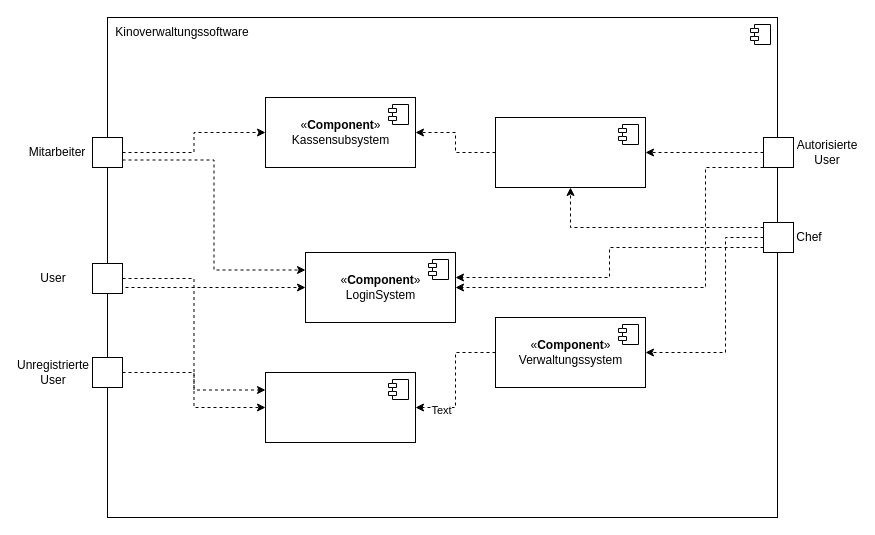
Some shapes in this 875 by 535 pixel diagram are drawn without their labels. Here are the shapes that lost their labels. From the top down, the centre of each, then its label:
the point at 570,152: « Component » Operativsystem
the point at 340,407: « Component » Webseite
